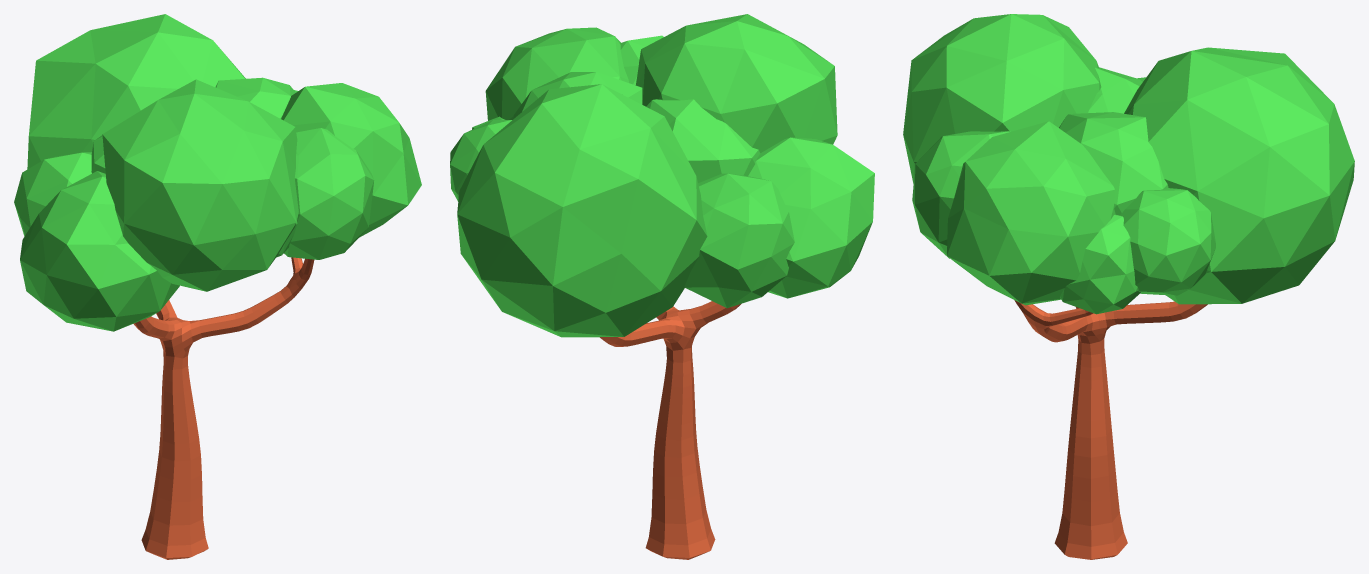
Rendered from arvore.fbx.
3 renders of one model, left to right at view 1: azimuth 30°, elevation 25°; view 2: azimuth 150°, elevation 25°; view 3: azimuth 270°, elevation 25°, orthographic. The views are drawn at different scales.
Visible parts, largest first — view 1: Esfera icosaédrica.002, Plano; view 2: Esfera icosaédrica.002, Plano; view 3: Esfera icosaédrica.002, Plano.
Boxes of the visible parts, box(x1,y1,x2,y2) form: Esfera icosaédrica.002: box(14, 14, 421, 331); Plano: box(133, 257, 314, 559); Esfera icosaédrica.002: box(450, 14, 874, 337); Plano: box(600, 301, 741, 559); Esfera icosaédrica.002: box(903, 14, 1354, 314); Plano: box(1014, 300, 1207, 559).
Size of the model in its own units: 717 by 912 by 710.
